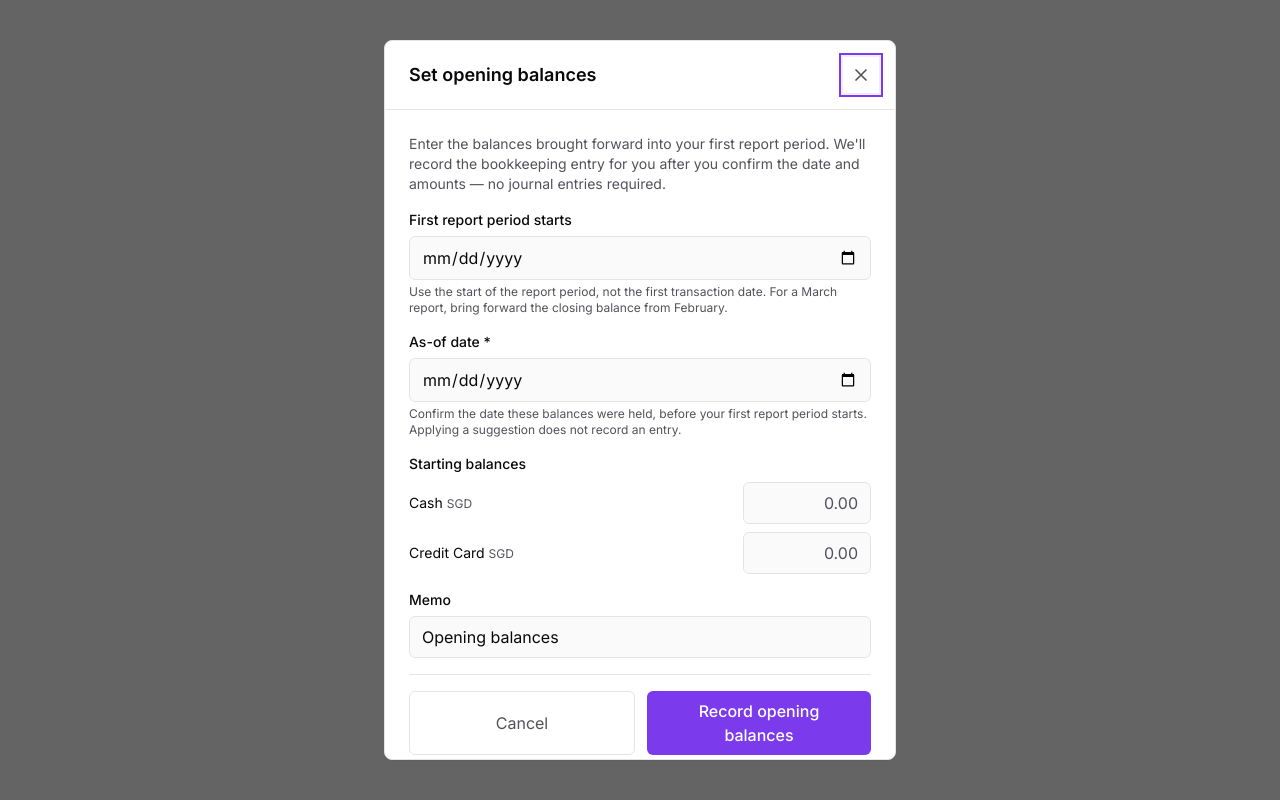
Test: OpeningBalanceModal (#949 / AC2.15.8) › AC-ledger.first-use.1 rejects an opening date inside the selected period
Type "2026-03-01" into the date field labelled "First report period starts" at (640, 258), box [409,236,871,280]
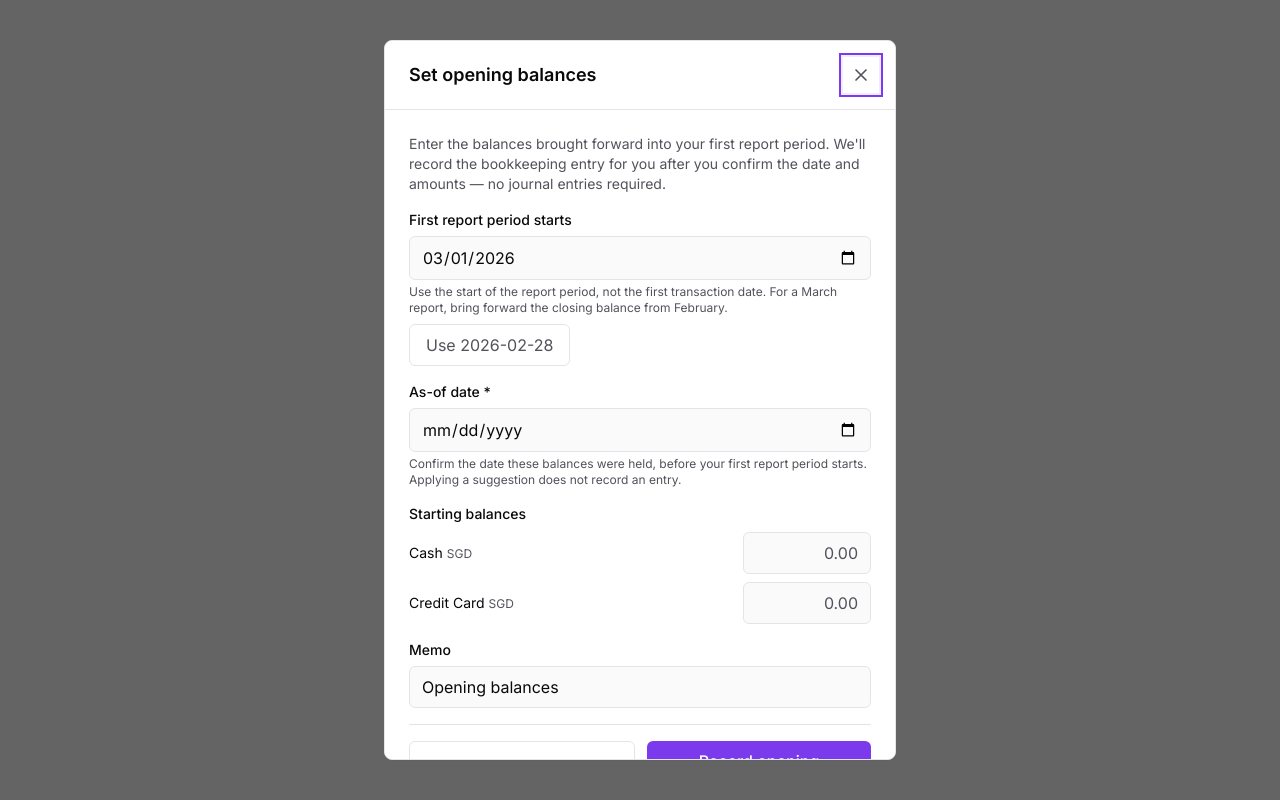
Type "2026-03-01" into the date field labelled "As-of date *" at (640, 430), box [409,408,871,452]
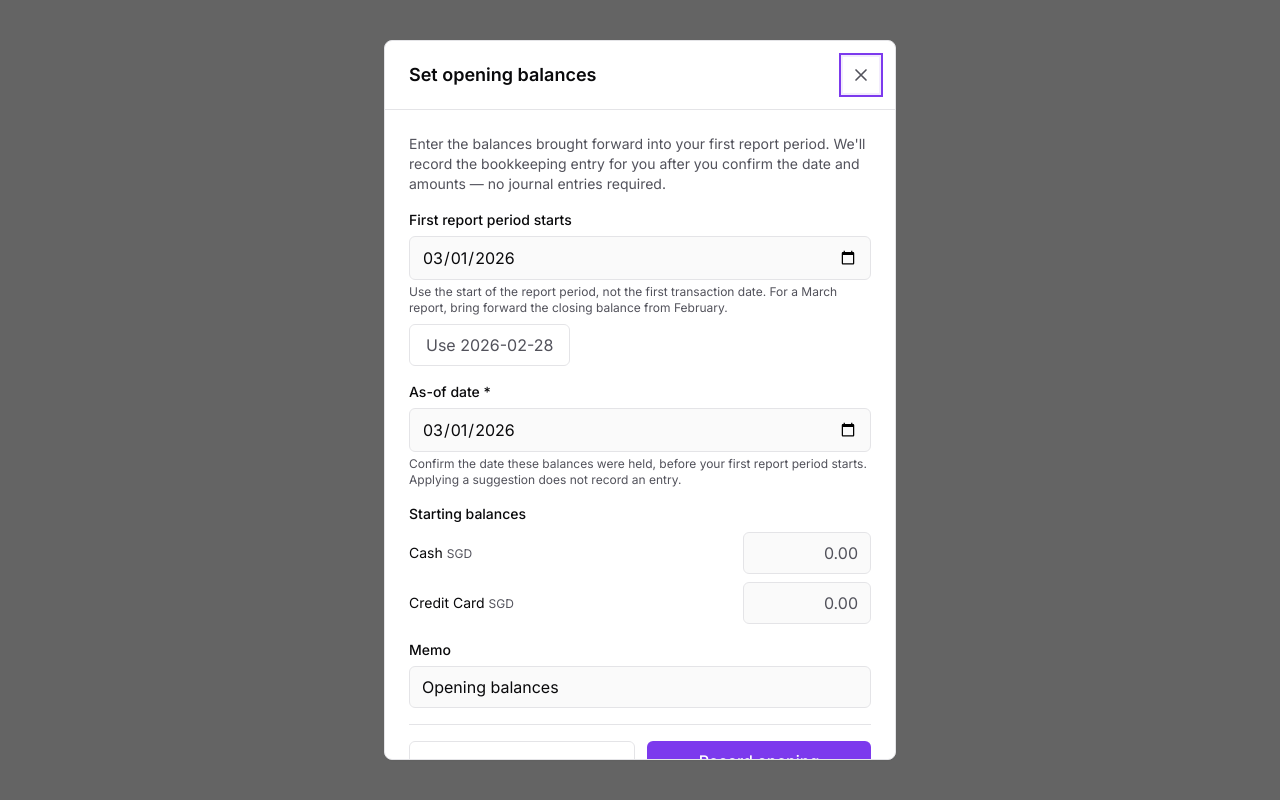
Type "100.00" into the field named "Opening balance for Cash" at (807, 553), box [743,532,871,574]
(page scrolled)
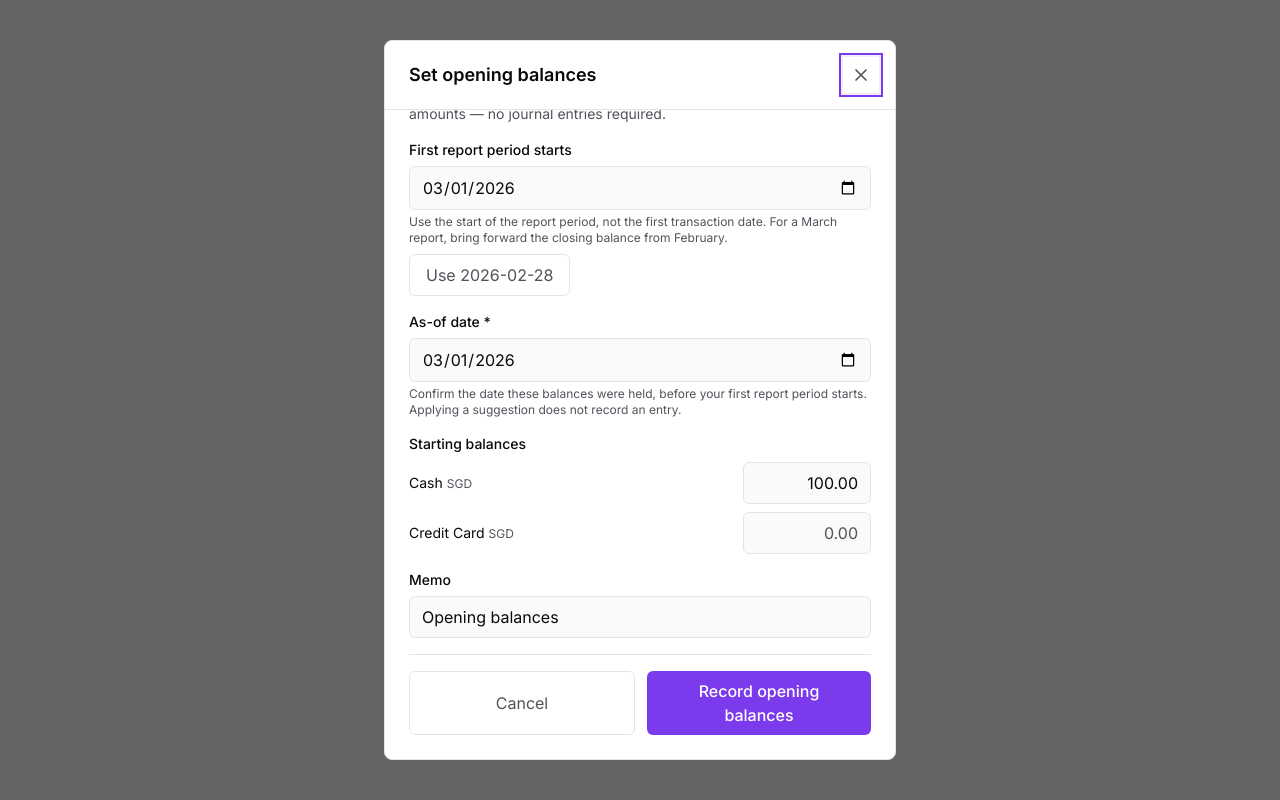
Click the button "Record opening balances" at (759, 703), box [647,671,871,735]
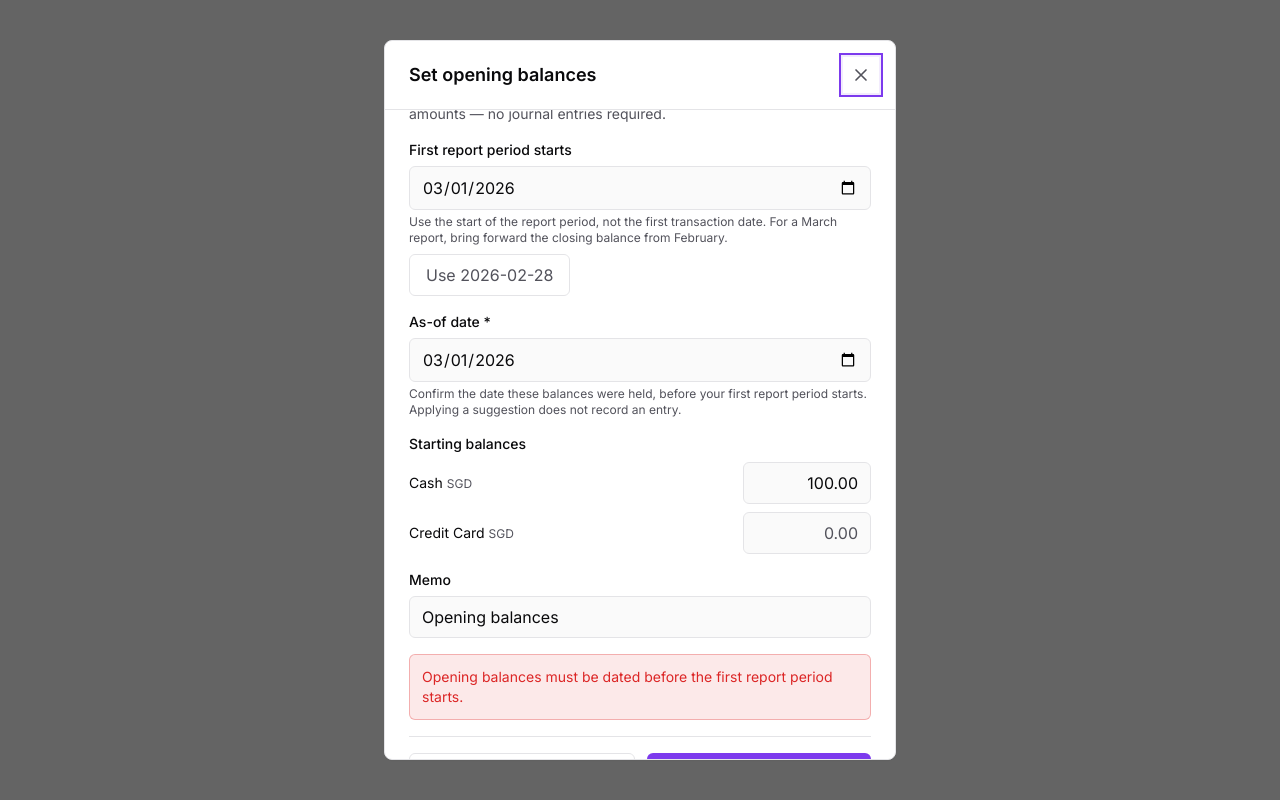
Check: the text "Opening balances must be dated before the first report period starts." is shown, box [409,654,871,720]
